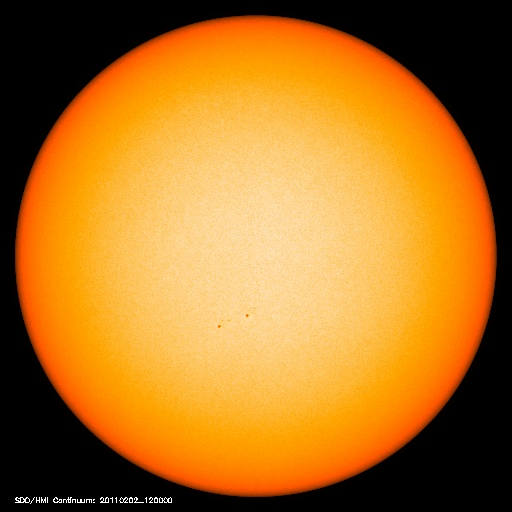sunspot: (213, 303, 262, 336)
